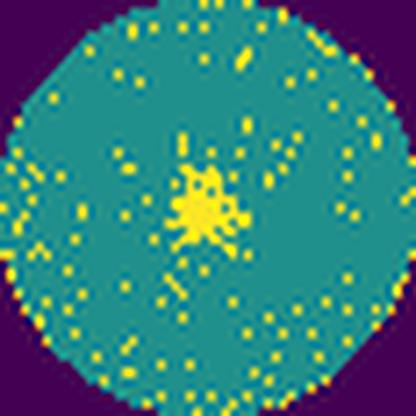Center: (165, 165, 255, 250)
